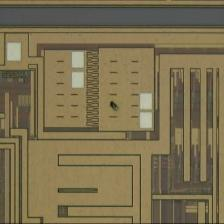PARTICLE: (108, 102, 120, 114)
